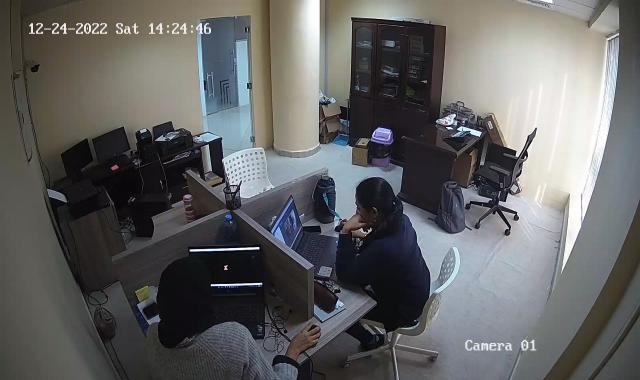no_hairnet: (156, 256, 212, 328), (356, 177, 399, 233)
